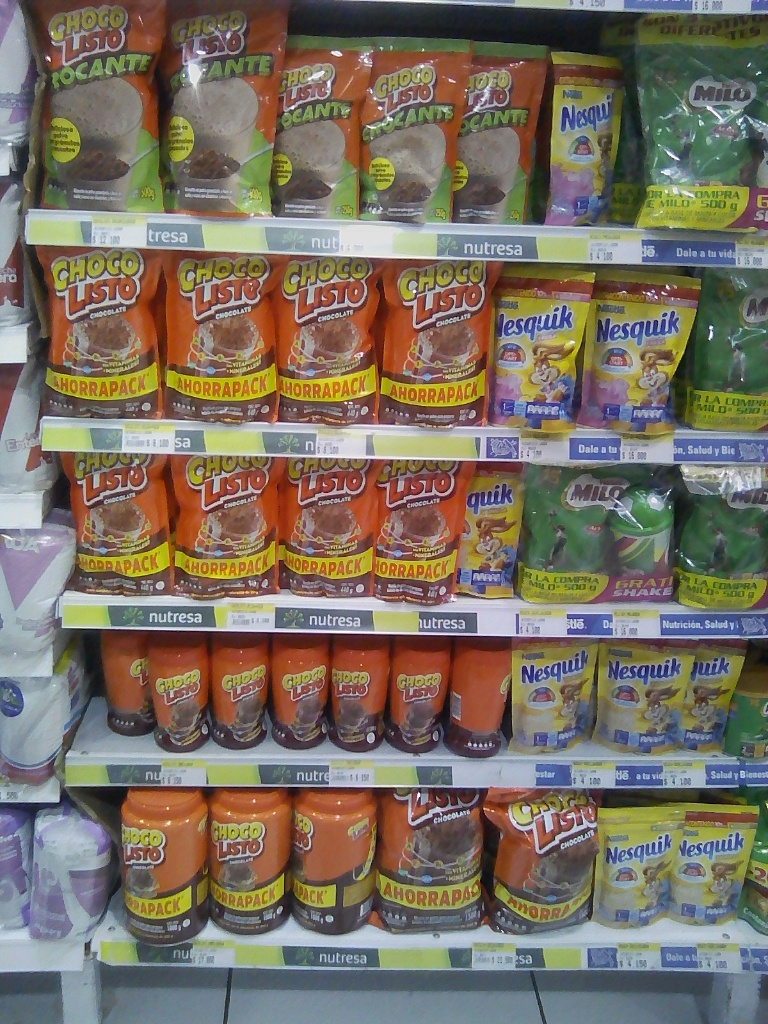COL0170102DYP50000: (29, 4, 164, 214)
COL0170103DYP1,500: (386, 784, 491, 938)
COL0170103DYP44000: (55, 449, 173, 598)
COL0170103TRR00100: (112, 786, 208, 943)
COL0170103TRR30000: (92, 633, 150, 739)
COL0170203DYP50000: (522, 464, 610, 608)
COL0170306DYP20000: (602, 804, 681, 931)
